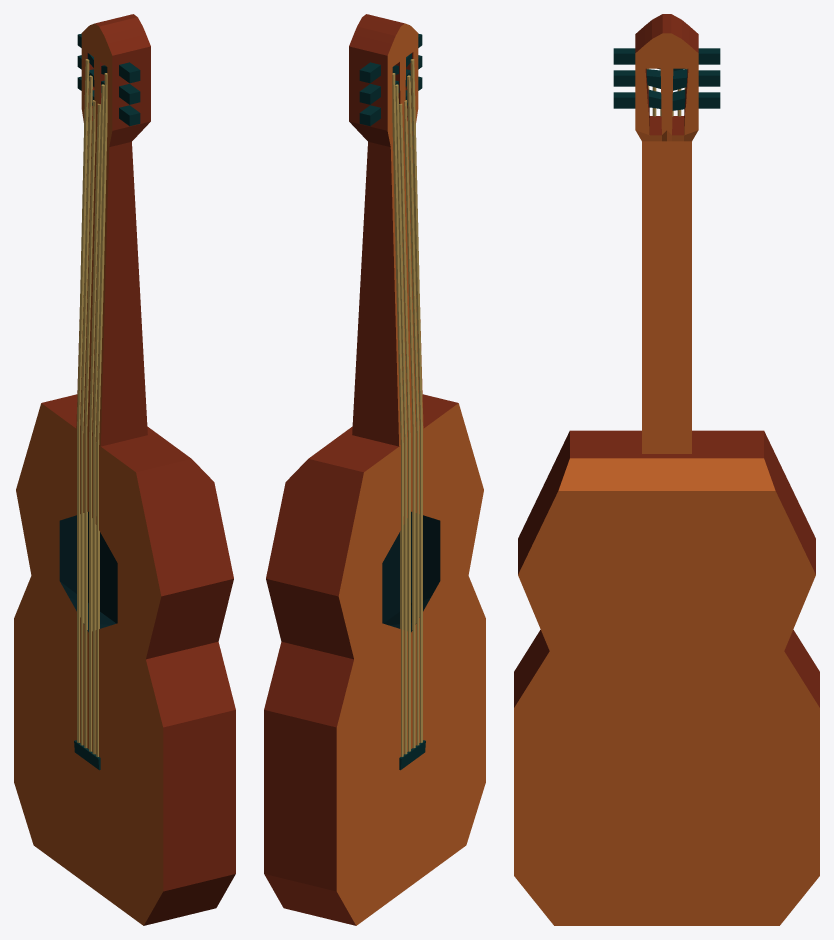
Rendered from guitar.fbx.
3 views of the same model, side by side, from view 1: azimuth 30°, elevation 25°; view 2: azimuth 150°, elevation 25°; view 3: azimuth 270°, elevation 25° (orthographic). The views are drawn at different scales.
Visible parts, largest first — view 1: guitar_geo, guitarStrings_geo; view 2: guitar_geo, guitarStrings_geo; view 3: guitar_geo.
Boxes of the visible parts, x1,y1,x2,y2 form: guitar_geo: [14, 14, 235, 925]; guitarStrings_geo: [77, 59, 107, 756]; guitar_geo: [264, 14, 485, 925]; guitarStrings_geo: [392, 59, 422, 756]; guitar_geo: [514, 14, 819, 925].
Size of the model in its own units: 35.58 by 388 by 122.
1 material, 1 textured.
